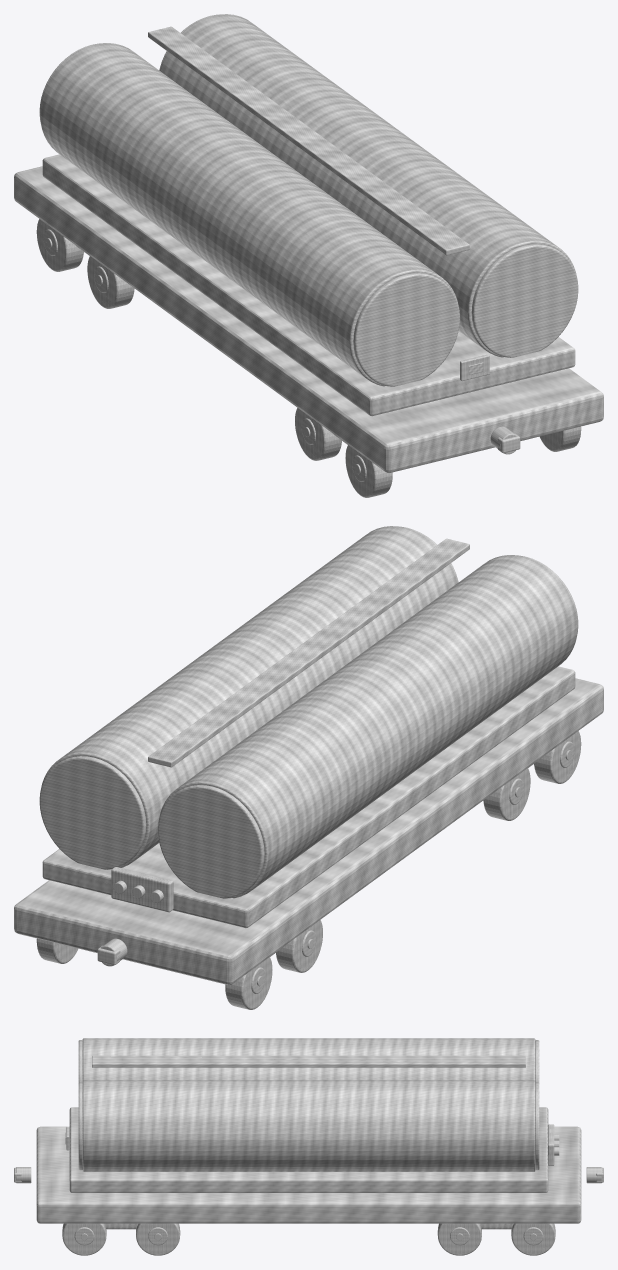
File: freight_car_variant_d.glb
3 renders of one model, top to bottom at view 1: azimuth 30°, elevation 25°; view 2: azimuth 150°, elevation 25°; view 3: azimuth 270°, elevation 25°, orthographic. The views are drawn at different scales.
Visible parts, largest first — view 1: Modular fluid vessel, Modular fluid vessel.001, Freight underframe.003, Tank skid frame, Vessel end cap, Vessel end cap.001, Central maintenance walkway, Rail wheel.024, Rail wheel.028, Rail wheel.030, Rail wheel.026, Rail wheel.025; view 2: Modular fluid vessel, Modular fluid vessel.001, Freight underframe.003, Tank skid frame, Vessel rear cap, Vessel rear cap.001, Central maintenance walkway, Tank service manifold.001, Rail wheel.030, Rail wheel.026, Rail wheel.024, Rail wheel.028 (+1 smaller); view 3: Modular fluid vessel.001, Freight underframe.003, Modular fluid vessel, Tank skid frame, Central maintenance walkway, Rail wheel.025, Rail wheel.031, Rail wheel.027, Rail wheel.029, Vessel end cap.001, Vessel rear cap.001.
Boxes of the visible parts, bbox=[...] form: Modular fluid vessel: bbox=[40, 43, 457, 386]; Modular fluid vessel.001: bbox=[160, 14, 576, 357]; Freight underframe.003: bbox=[14, 166, 603, 472]; Tank skid frame: bbox=[42, 154, 575, 416]; Vessel end cap: bbox=[353, 273, 459, 386]; Vessel end cap.001: bbox=[471, 244, 578, 357]; Central maintenance walkway: bbox=[148, 26, 469, 255]; Rail wheel.024: bbox=[345, 445, 392, 497]; Rail wheel.028: bbox=[87, 256, 134, 308]; Rail wheel.030: bbox=[36, 219, 83, 271]; Rail wheel.026: bbox=[295, 408, 341, 460]; Rail wheel.025: bbox=[540, 426, 581, 451]; Modular fluid vessel: bbox=[160, 555, 577, 898]; Modular fluid vessel.001: bbox=[41, 526, 457, 867]; Freight underframe.003: bbox=[14, 678, 603, 984]; Tank skid frame: bbox=[42, 666, 575, 928]; Vessel rear cap: bbox=[158, 785, 264, 898]; Vessel rear cap.001: bbox=[39, 756, 146, 869]; Central maintenance walkway: bbox=[148, 538, 469, 767]; Tank service manifold.001: bbox=[111, 867, 173, 912]; Rail wheel.030: bbox=[225, 957, 272, 1009]; Rail wheel.026: bbox=[483, 768, 530, 820]; Rail wheel.024: bbox=[534, 731, 581, 783]; Rail wheel.028: bbox=[276, 920, 322, 972]; Modular fluid vessel.001: bbox=[82, 1080, 535, 1171]; Freight underframe.003: bbox=[36, 1126, 581, 1223]; Modular fluid vessel: bbox=[82, 1038, 535, 1080]; Tank skid frame: bbox=[69, 1107, 548, 1192]; Central maintenance walkway: bbox=[92, 1055, 525, 1067]; Rail wheel.025: bbox=[62, 1223, 106, 1255]; Rail wheel.031: bbox=[511, 1223, 555, 1255]; Rail wheel.027: bbox=[136, 1223, 180, 1255]; Rail wheel.029: bbox=[437, 1223, 481, 1255]; Vessel end cap.001: bbox=[78, 1082, 82, 1170]; Vessel rear cap.001: bbox=[535, 1082, 539, 1170].
Size of what is drawn, in the model's own units: 5.2 by 4.79 by 16.03.
5 materials, 5 textured.
